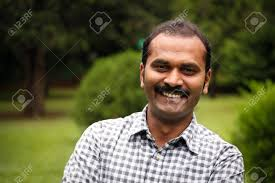Indian_Male: (146, 47, 209, 124)
